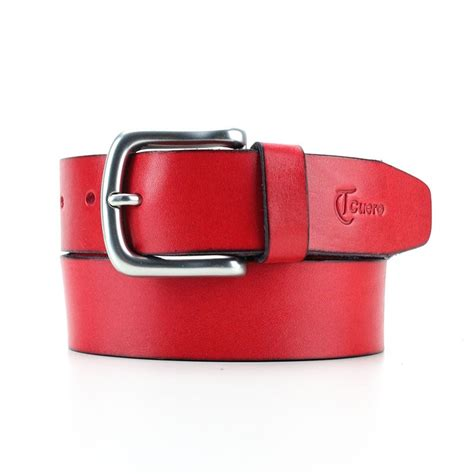cuero: (56, 143, 433, 365)
